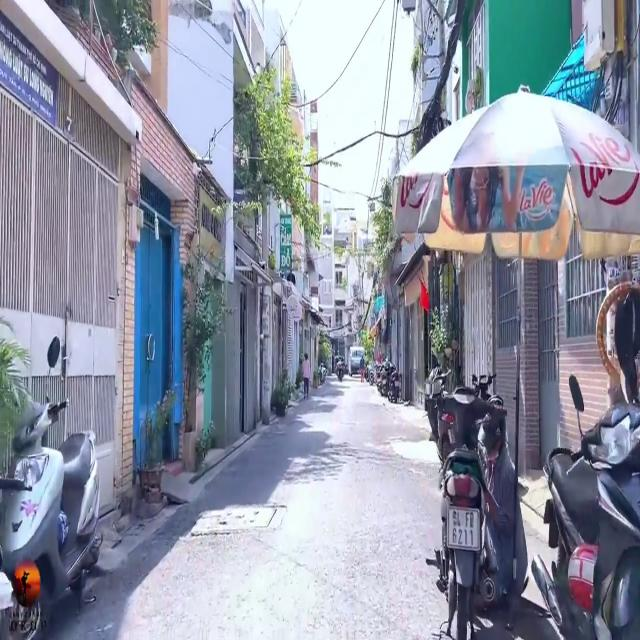bien_trang: (445, 508, 481, 548)
